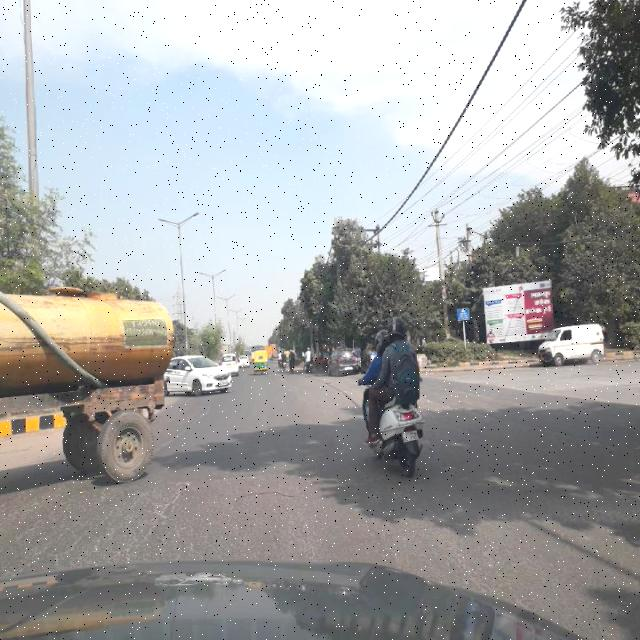D20: (2, 478, 190, 563)
